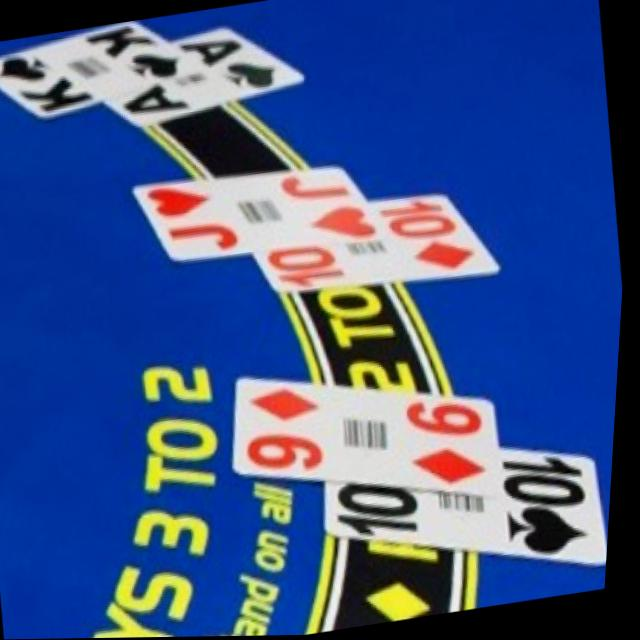Card-10: (333, 449, 613, 564), (257, 197, 502, 295)
Card-9: (240, 380, 506, 500)
Card-A: (105, 25, 306, 131)
Card-J: (136, 166, 388, 261)
Card-K: (0, 22, 203, 119)
